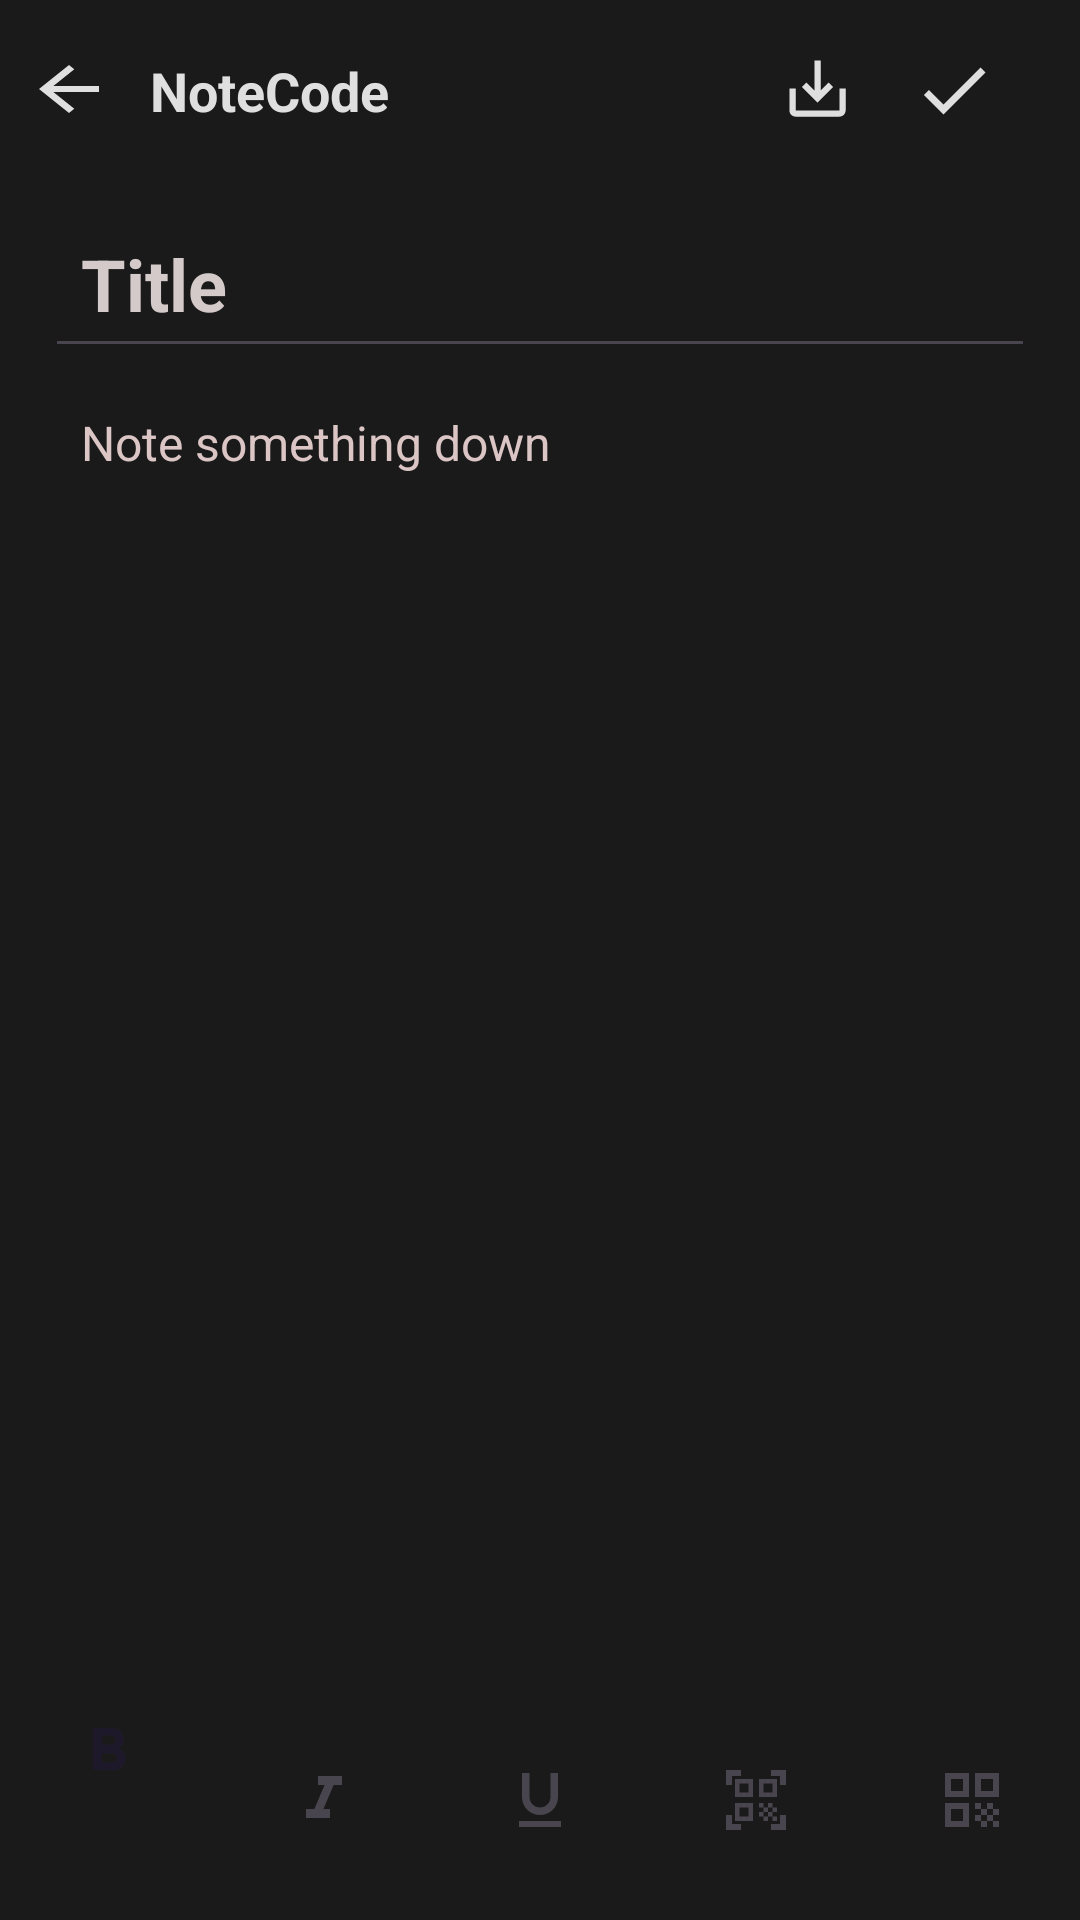

Icons on this 1080×1920 Android screen, each with the point to tap as (x,y):
arrow back: (69,89)
check: (955,91)
save as: (817,88)
